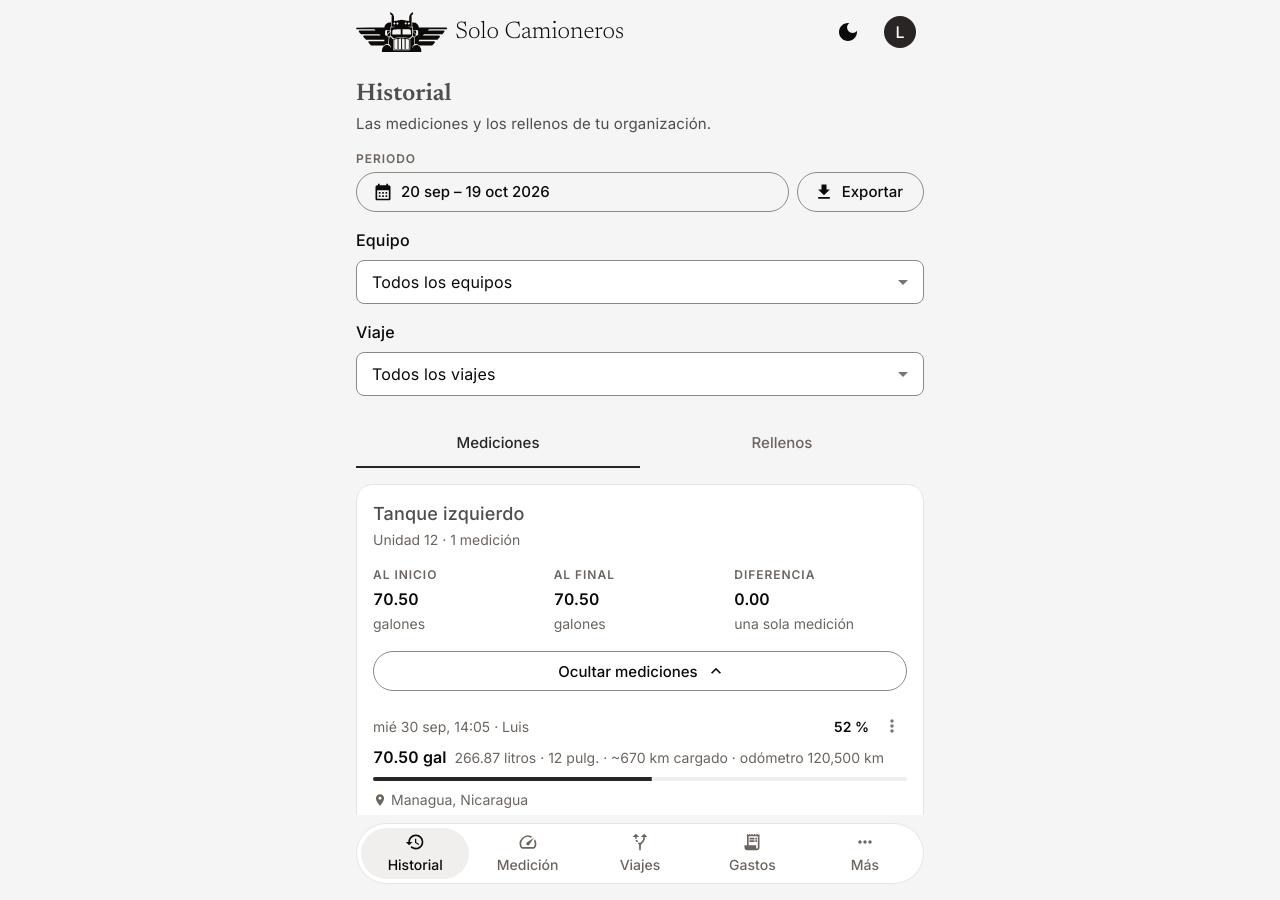
editing recomputes with the chosen tank and saves without waiting (RF-12, CA-7)
Click the button named "Opciones" at (892, 726), box 877,711 -> 907,741
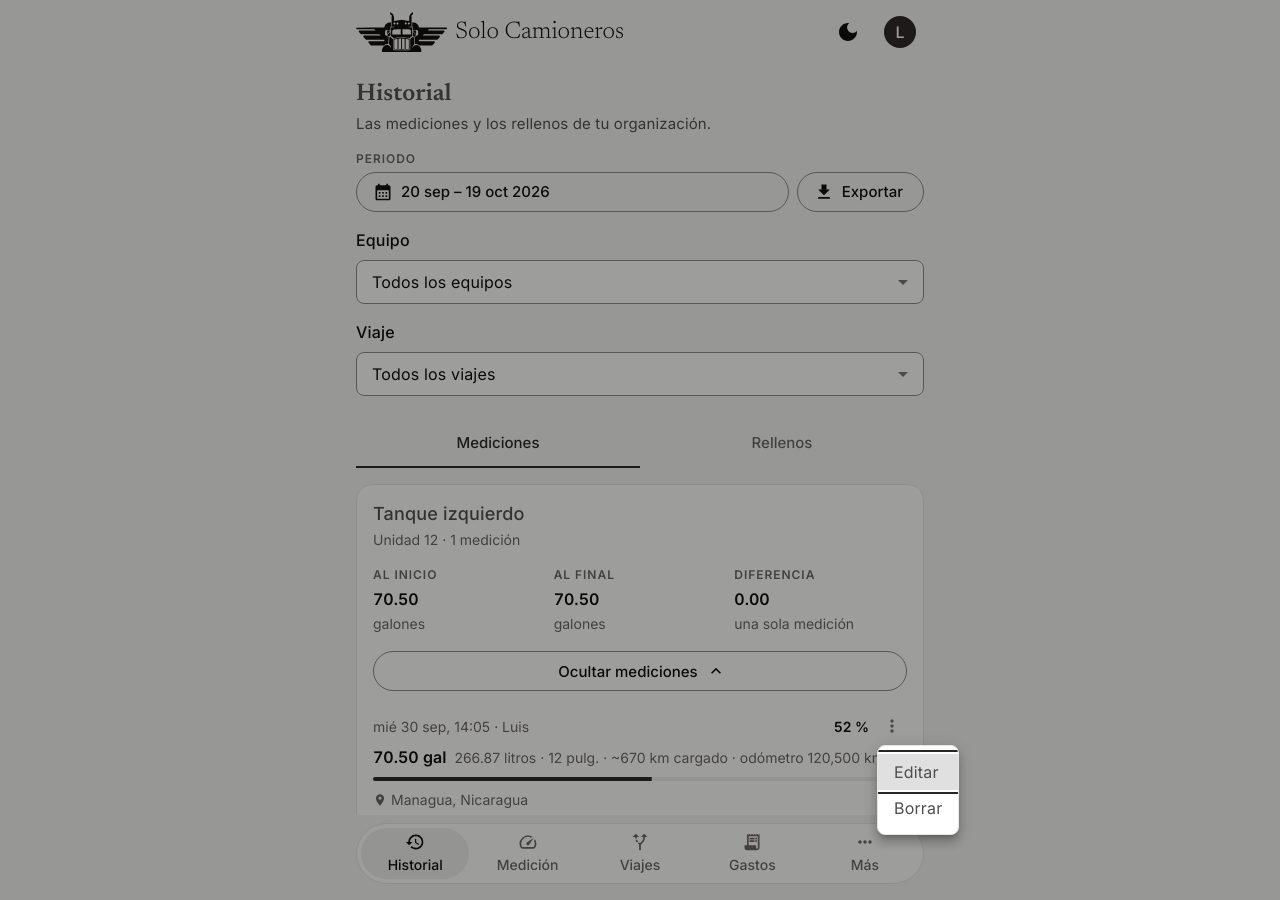
Click the menu item "Editar" at (918, 772), box 878,754 -> 958,790
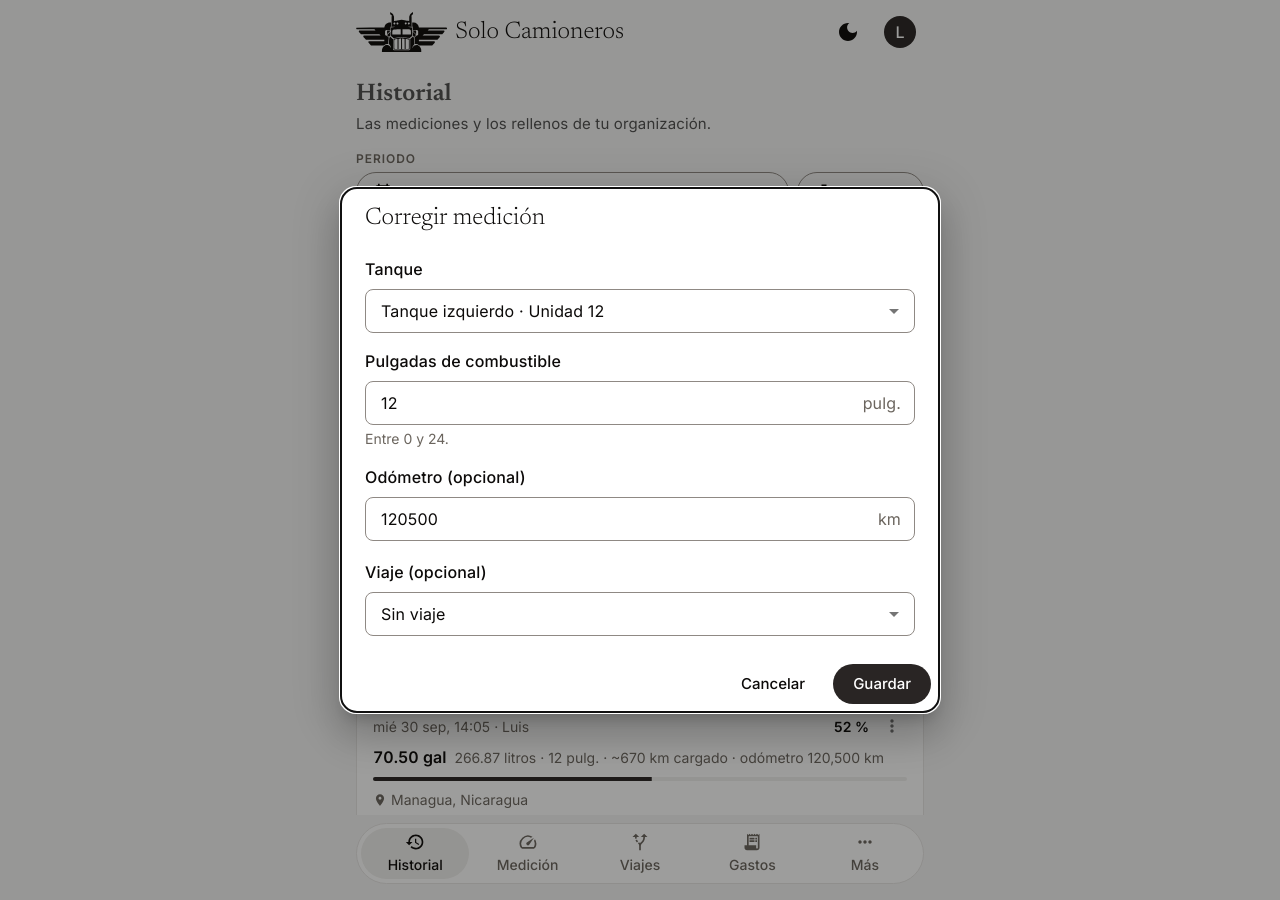
Press the mouse on the dropdown labelled "Tanque" at (612, 311), box 365,289 -> 859,333
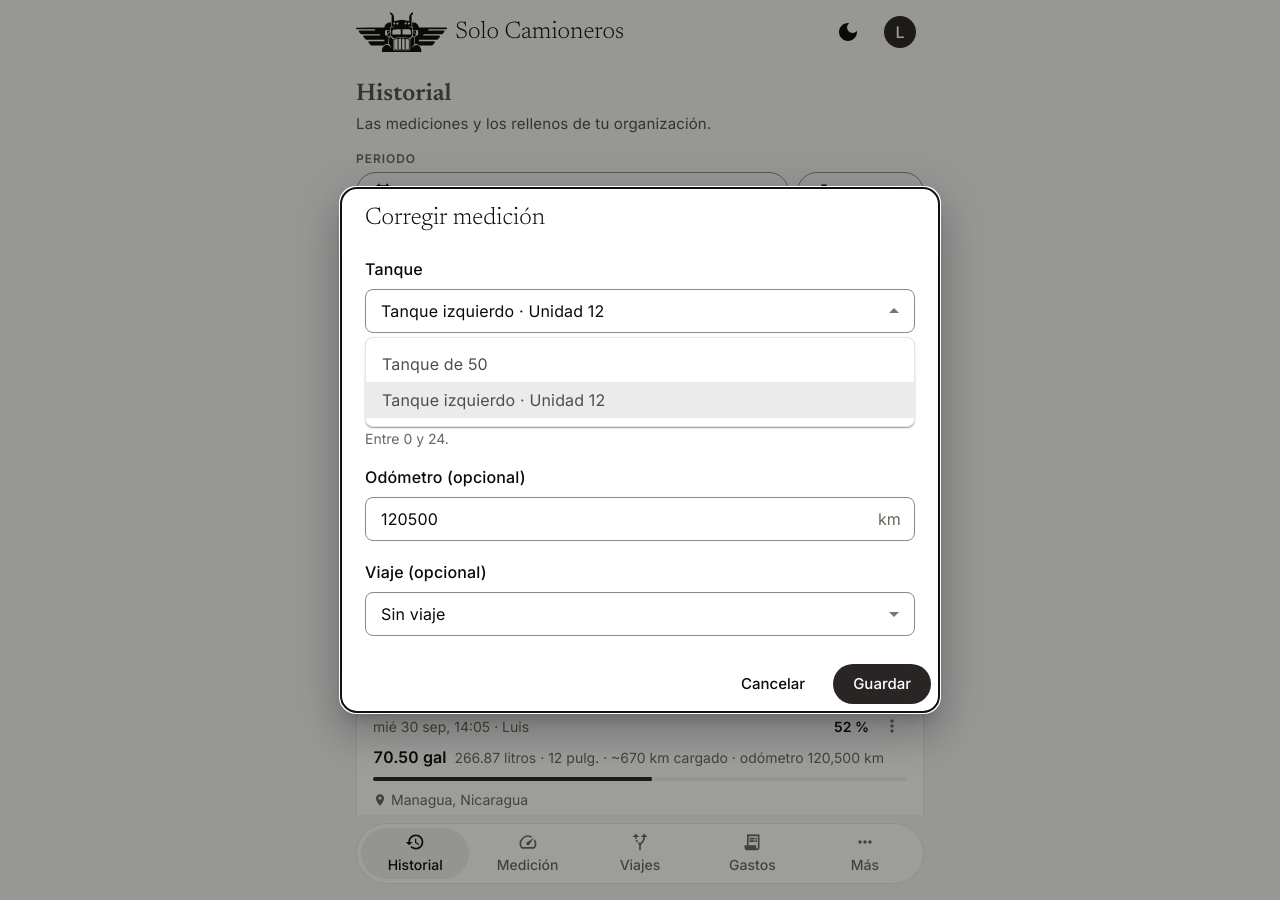
Click the option "Tanque de 50" at (435, 364), box 382,354 -> 488,374
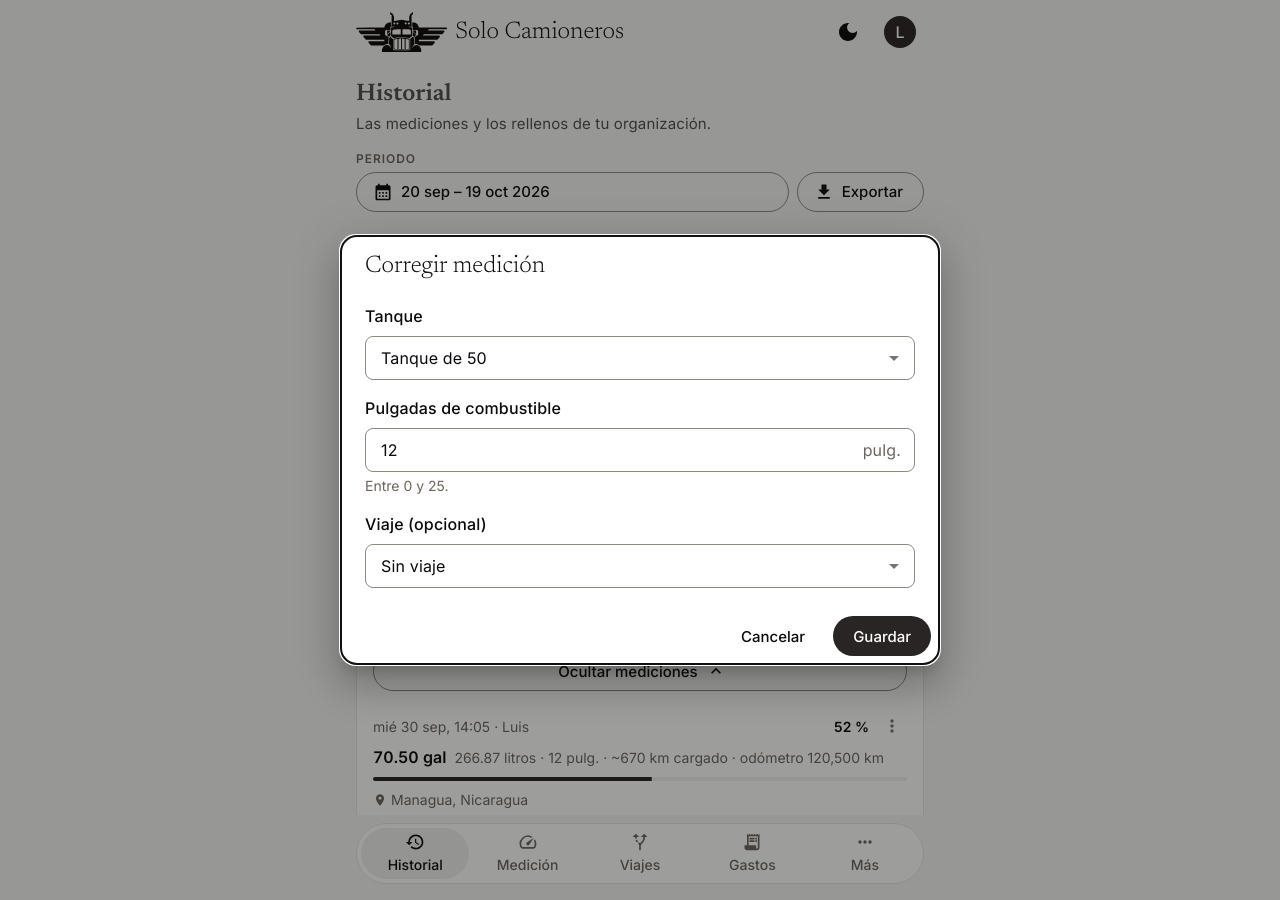
Replace the text in the field labelled "Pulgadas de combustible" with "12,5" at (610, 450), box 365,428 -> 855,472
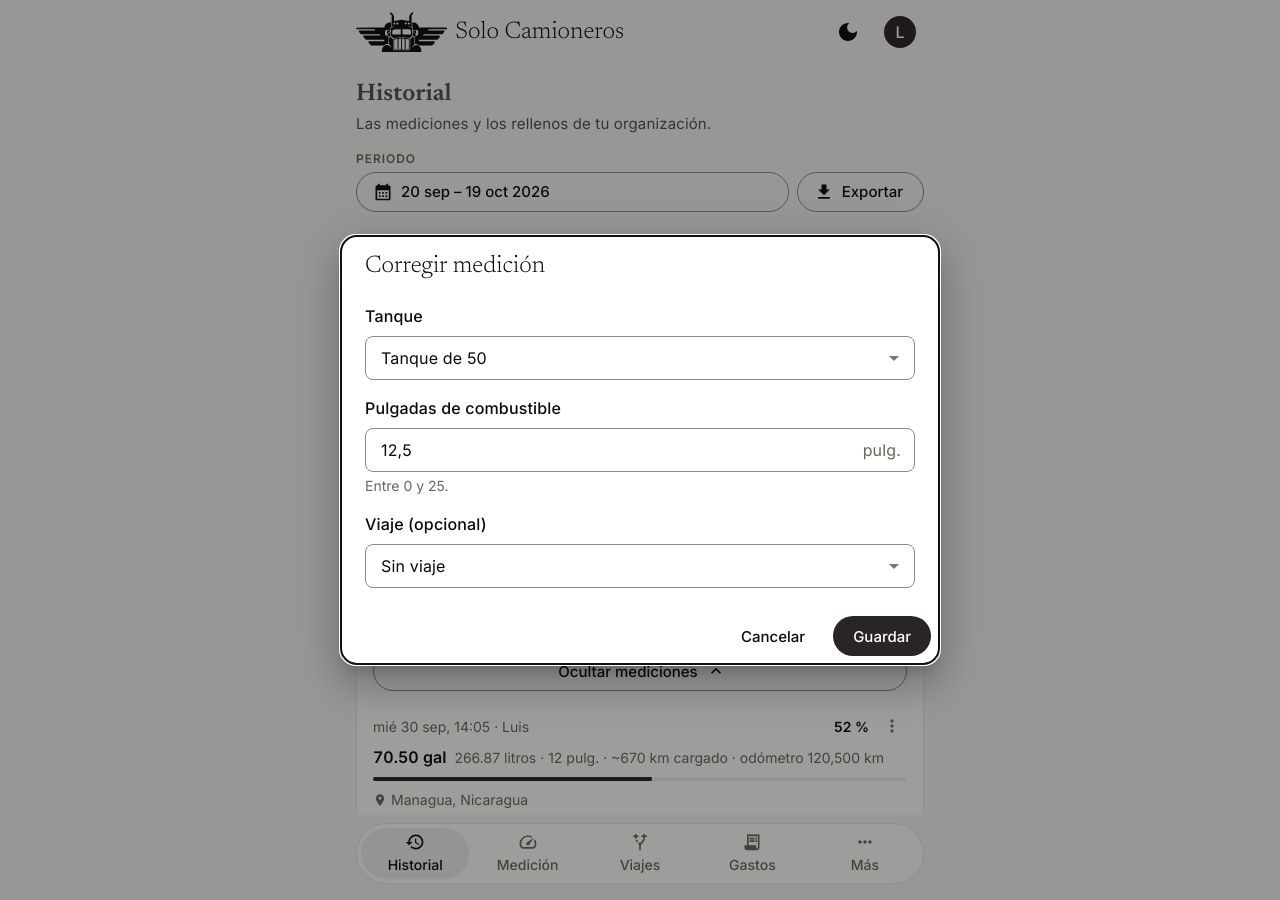
Click the button "Guardar" at (882, 636), box 833,616 -> 931,656
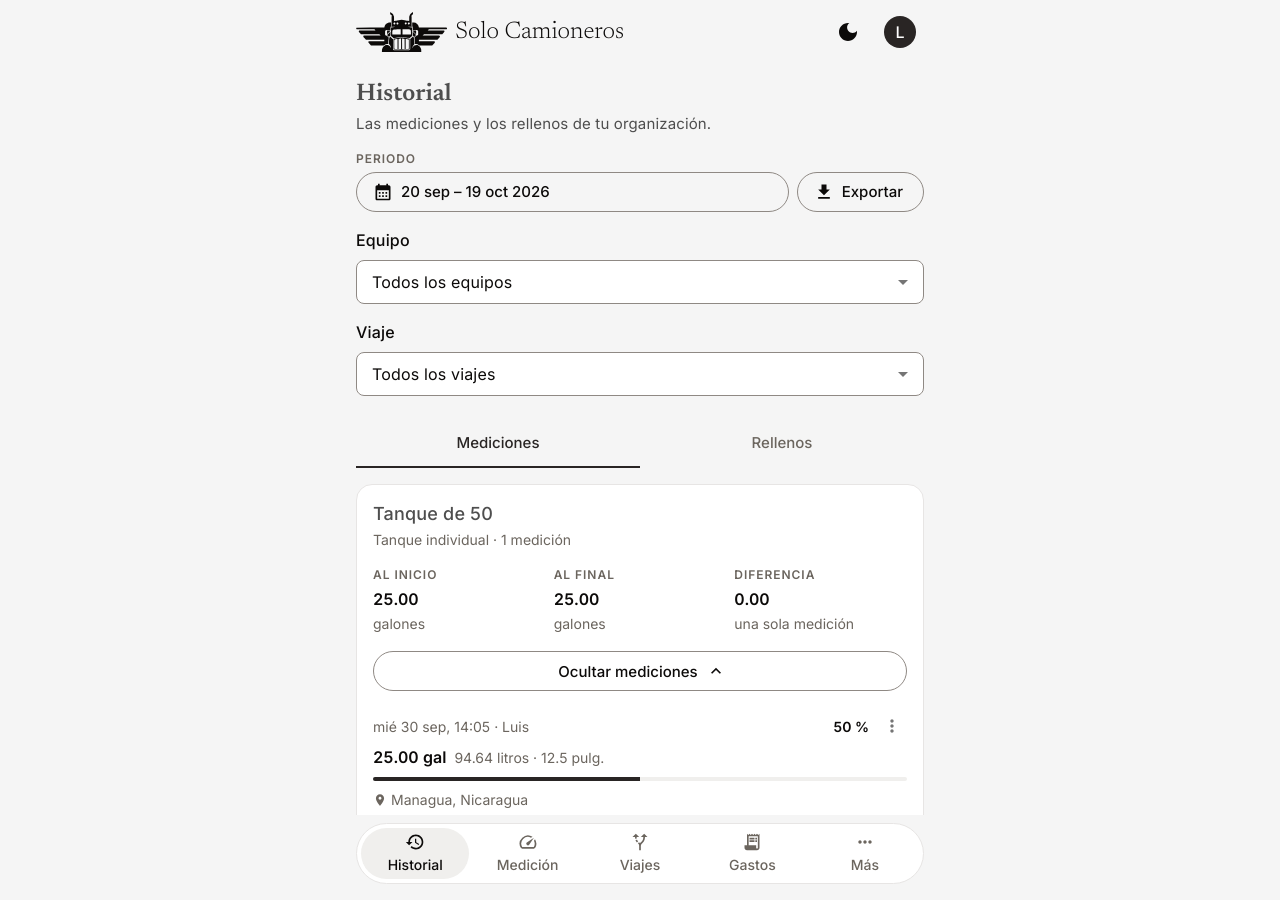
Now the element "Tanque de 50" is shown, box 356,484 -> 924,839
